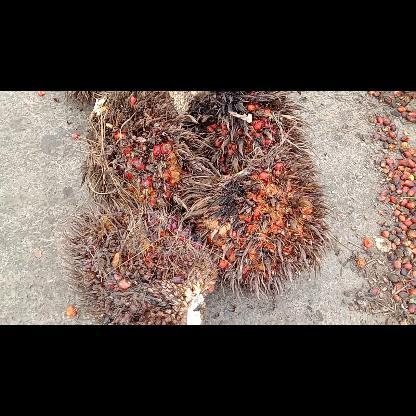Terlalu masak: (188, 150, 332, 298), (63, 198, 218, 324), (79, 91, 195, 209), (186, 90, 312, 172)
